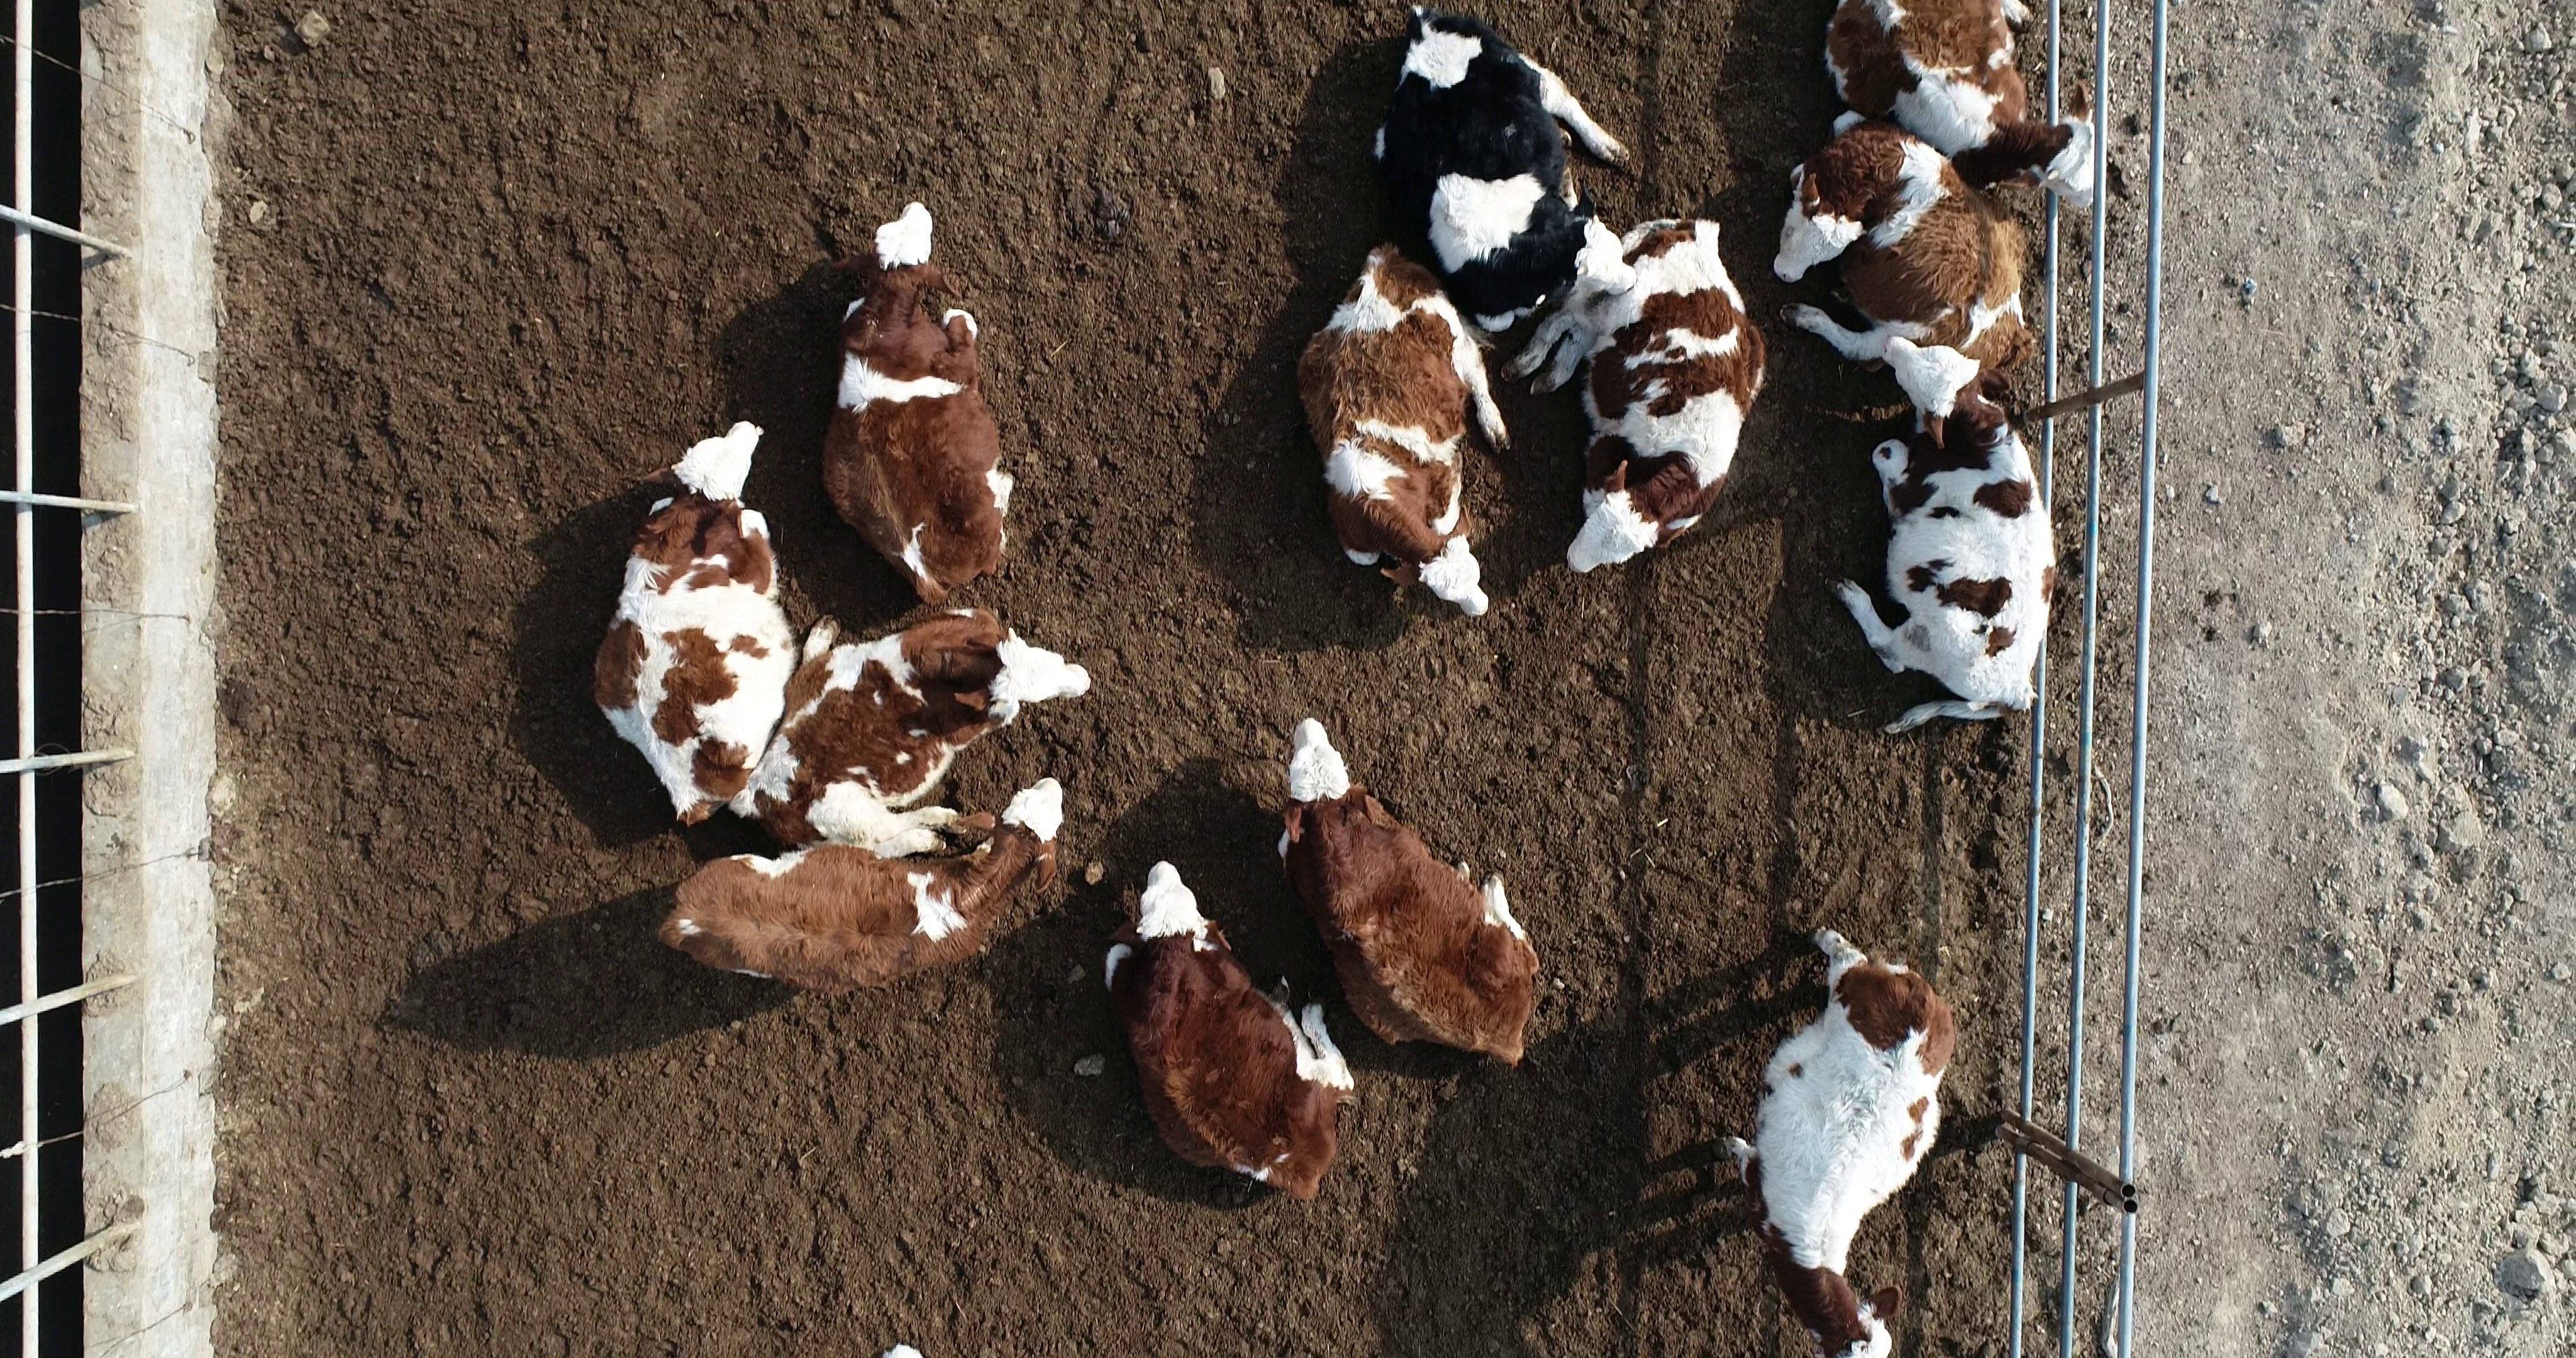cattle: (1712, 918, 1959, 1358), (584, 411, 842, 828), (1498, 210, 1772, 581), (1820, 331, 2061, 743), (1269, 711, 1540, 1072), (649, 775, 1070, 998), (1095, 854, 1360, 1206), (1370, 0, 1642, 336), (1290, 237, 1518, 620), (816, 196, 1021, 608)
